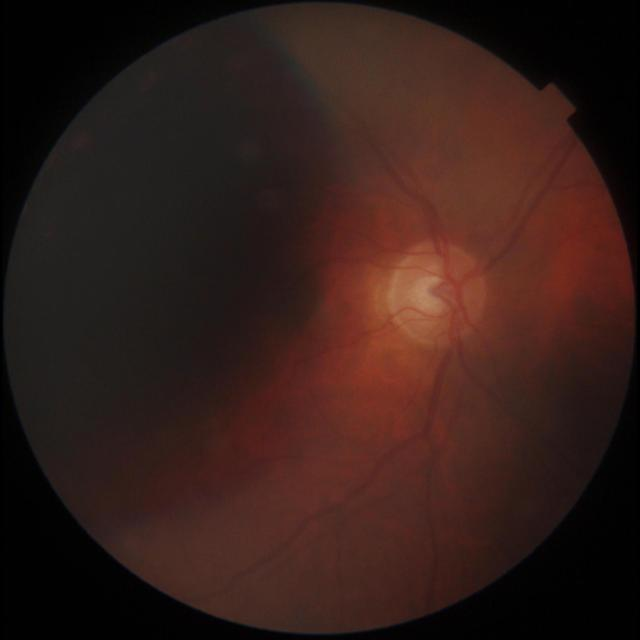OC: (413, 276, 455, 314)
OD: (387, 240, 487, 346)
